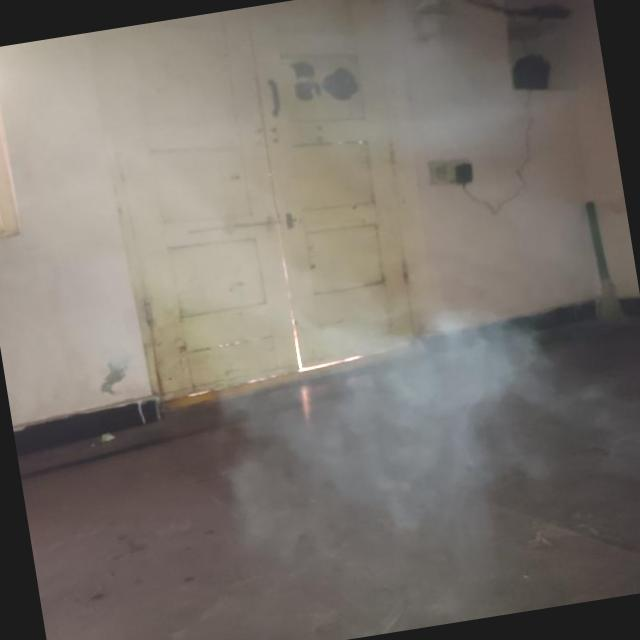smoke: (256, 250, 558, 521)
